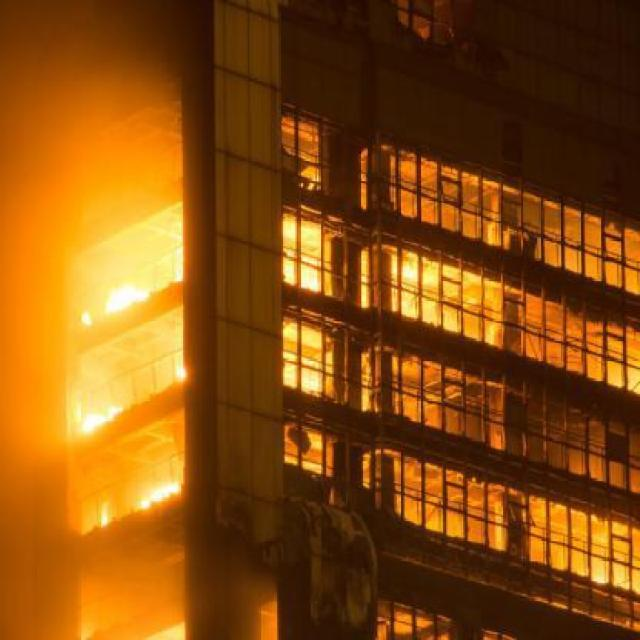Fire: (108, 286, 148, 312), (144, 482, 180, 506), (76, 410, 112, 433), (174, 366, 186, 382), (81, 313, 94, 327), (100, 505, 108, 527)
